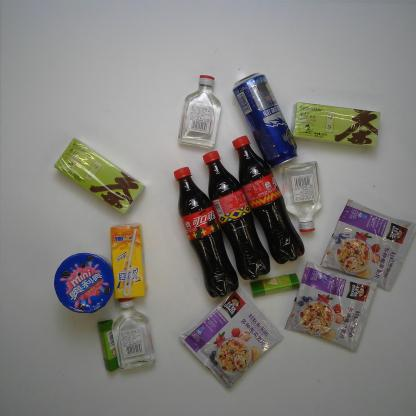Alcohol: (230, 70, 300, 169), (111, 295, 158, 371), (177, 72, 222, 150), (278, 160, 324, 234)
Dessert: (52, 252, 115, 314)
Drink: (229, 134, 306, 266), (200, 150, 272, 281), (172, 165, 240, 299), (110, 222, 148, 301)
Instant Drink: (177, 286, 286, 392), (319, 197, 414, 294), (284, 259, 380, 354), (52, 137, 146, 216), (288, 101, 382, 149)
Stationery: (95, 318, 122, 374), (249, 273, 300, 300)
